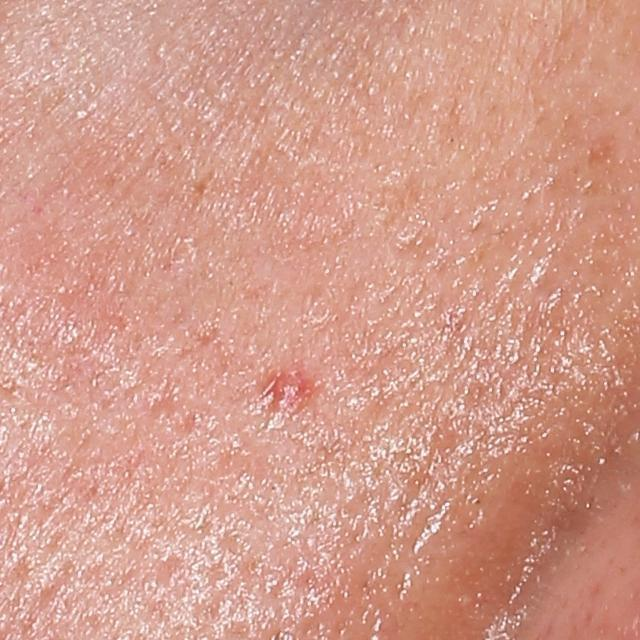papule: (267, 364, 314, 404)
